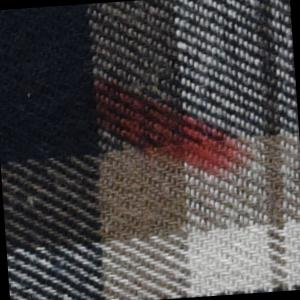Stain: (78, 65, 261, 198)
